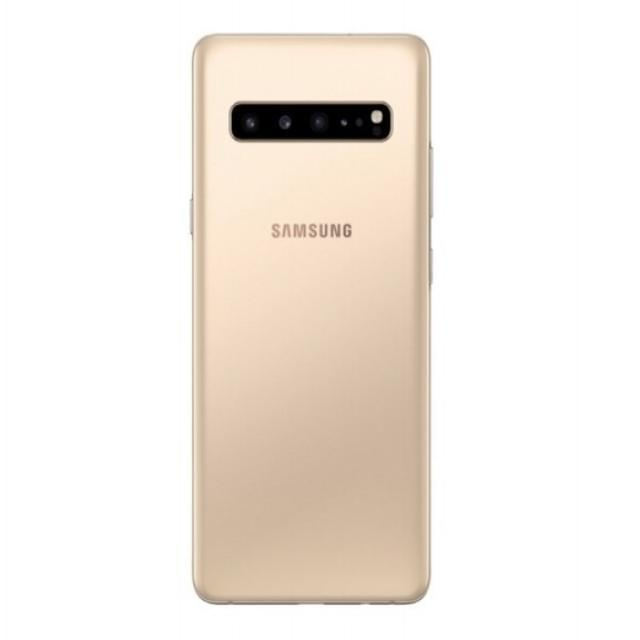phone: (188, 29, 435, 606)
